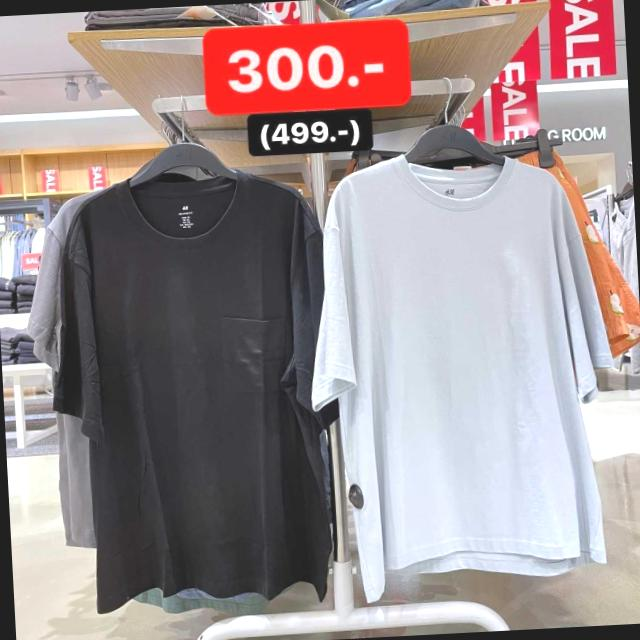Tshirt: (310, 142, 624, 594), (40, 166, 330, 604)
